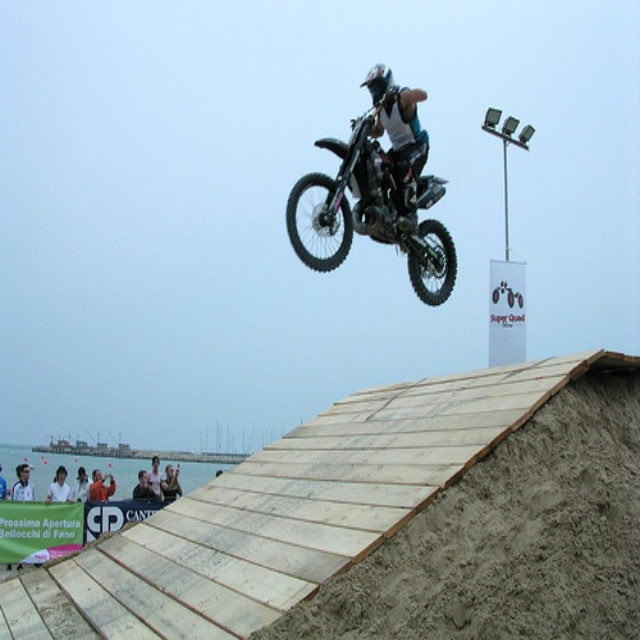Motorcycle: (285, 101, 458, 307)
